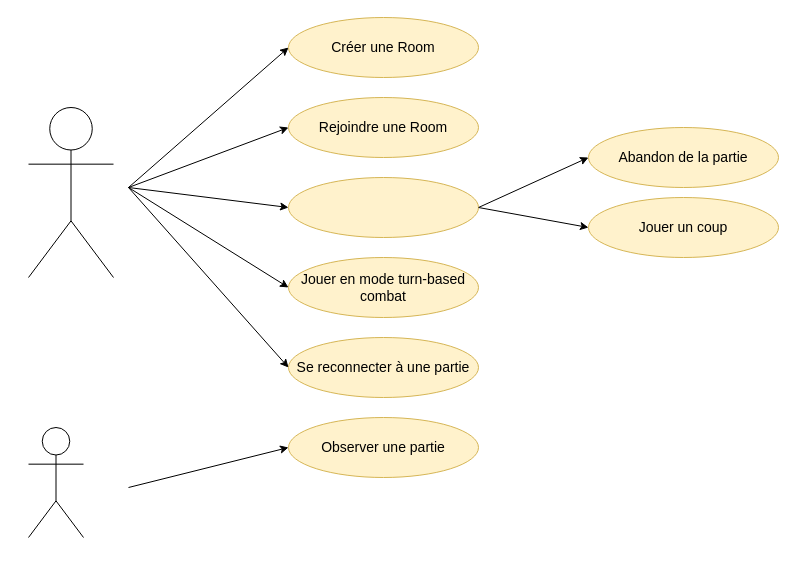
This 796x587 diagram has some shape labels left out. The box of each missing label's shape, as (x1, y1, x2, y2) in pixels:
Jouer une partie classique: (288, 176, 478, 238)
Joueur: (28, 106, 114, 278)
Spectateur: (28, 426, 84, 538)
